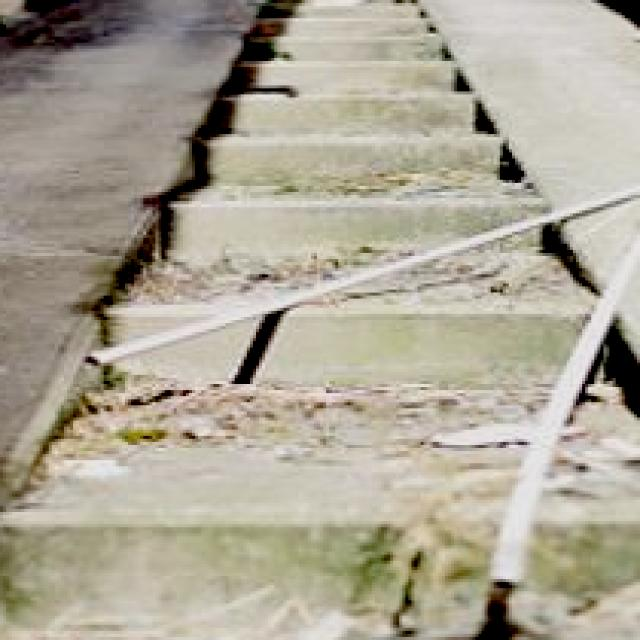upstair: (62, 151, 640, 593)
